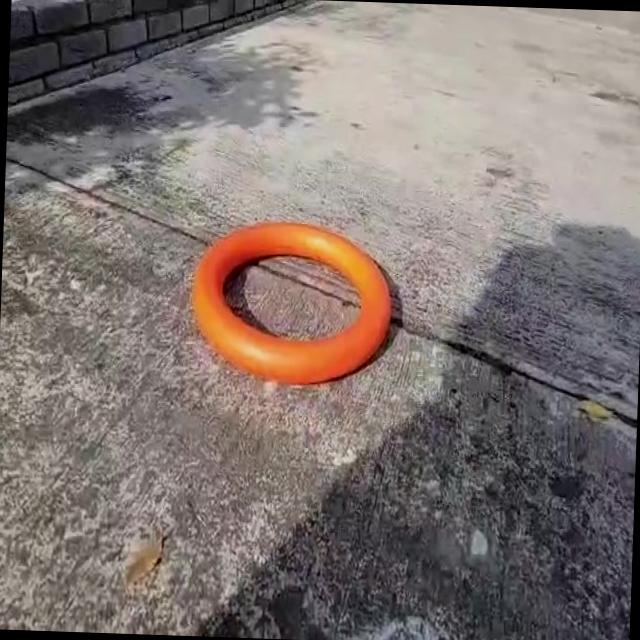note: (189, 213, 399, 391)
